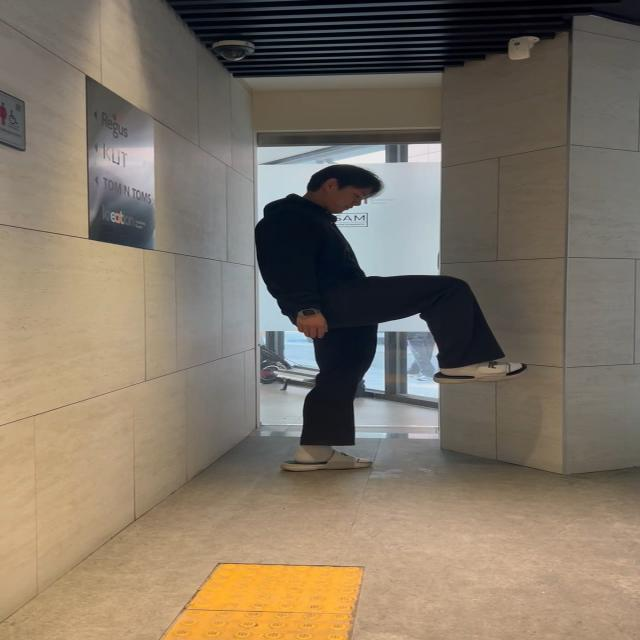knee: (369, 252, 556, 411)
